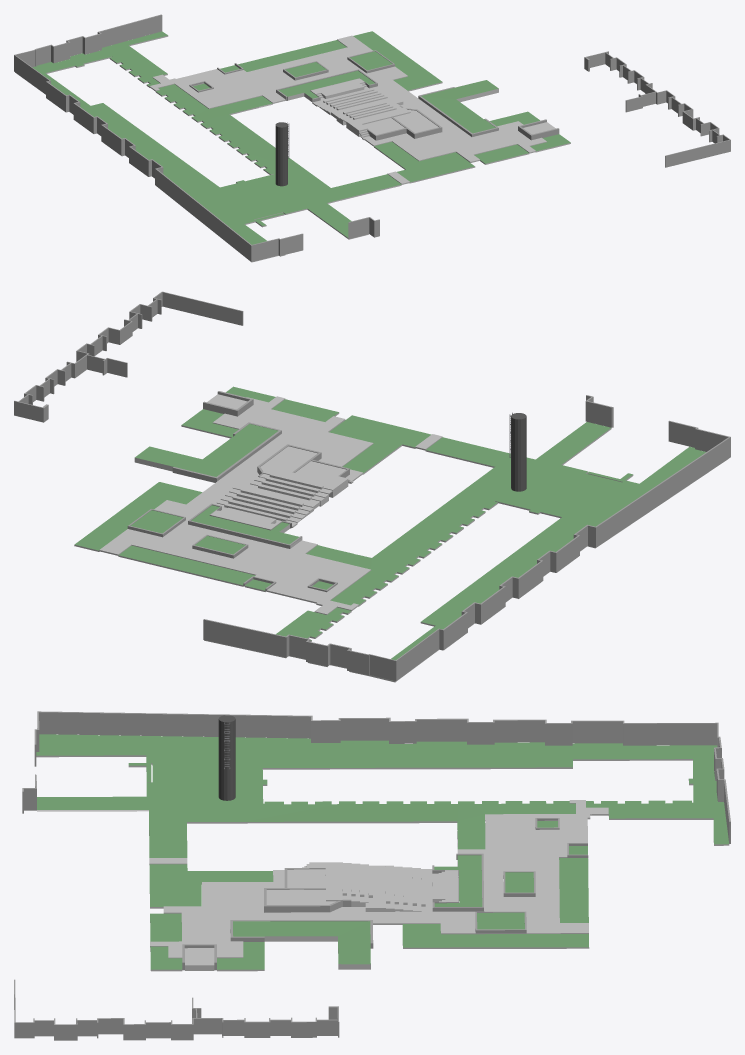
The model's file is floor0.glb.
3 views of the same model, one above another, from view 1: azimuth 30°, elevation 25°; view 2: azimuth 150°, elevation 25°; view 3: azimuth 270°, elevation 25° (orthographic). The views are drawn at different scales.
Parts seen in each view (by area): view 1: IfcSlab/L23, IfcWallStandardCase/Parede-058, IfcSlab/L23.002, IfcWallStandardCase/Parede-058.009, IfcColumn/P07.010; view 2: IfcSlab/L23, IfcWallStandardCase/Parede-058, IfcSlab/L23.002, IfcWallStandardCase/Parede-058.009, IfcColumn/P07.010; view 3: IfcSlab/L23, IfcWallStandardCase/Parede-058, IfcSlab/L23.002, IfcColumn/P07.010, IfcWallStandardCase/Parede-058.009.
Boxes of the visible parts, left/top/right/bottom form: IfcSlab/L23: left=15, top=31, right=570, bottom=262; IfcWallStandardCase/Parede-058: left=14, top=14, right=730, bottom=261; IfcSlab/L23.002: left=421, top=80, right=498, bottom=133; IfcWallStandardCase/Parede-058.009: left=418, top=87, right=559, bottom=140; IfcColumn/P07.010: left=275, top=122, right=287, bottom=186; IfcSlab/L23: left=74, top=386, right=727, bottom=682; IfcWallStandardCase/Parede-058: left=14, top=291, right=730, bottom=680; IfcSlab/L23.002: left=134, top=424, right=278, bottom=476; IfcWallStandardCase/Parede-058.009: left=172, top=391, right=281, bottom=482; IfcColumn/P07.010: left=511, top=413, right=526, bottom=491; IfcSlab/L23: left=36, top=734, right=729, bottom=971; IfcWallStandardCase/Parede-058: left=14, top=711, right=730, bottom=1040; IfcSlab/L23.002: left=233, top=921, right=370, bottom=969; IfcColumn/P07.010: left=218, top=715, right=235, bottom=800; IfcWallStandardCase/Parede-058.009: left=182, top=920, right=373, bottom=970.
Bounding box in the file's own units: 84.52 × 10.61 × 82.74.
